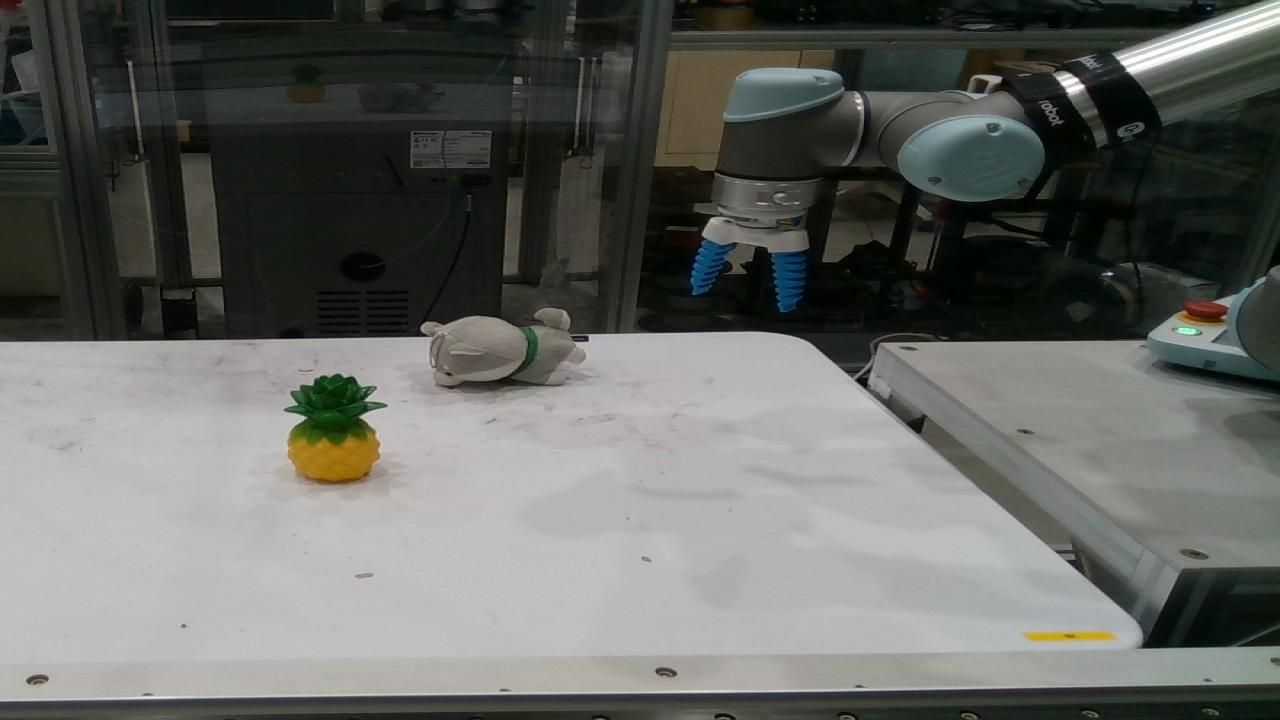UR5: (703, 0, 1279, 255), (1235, 266, 1279, 373)
gripper_left: (691, 240, 733, 295)
gripper_right: (772, 250, 806, 312)
target: (422, 308, 585, 386), (285, 375, 385, 482)
